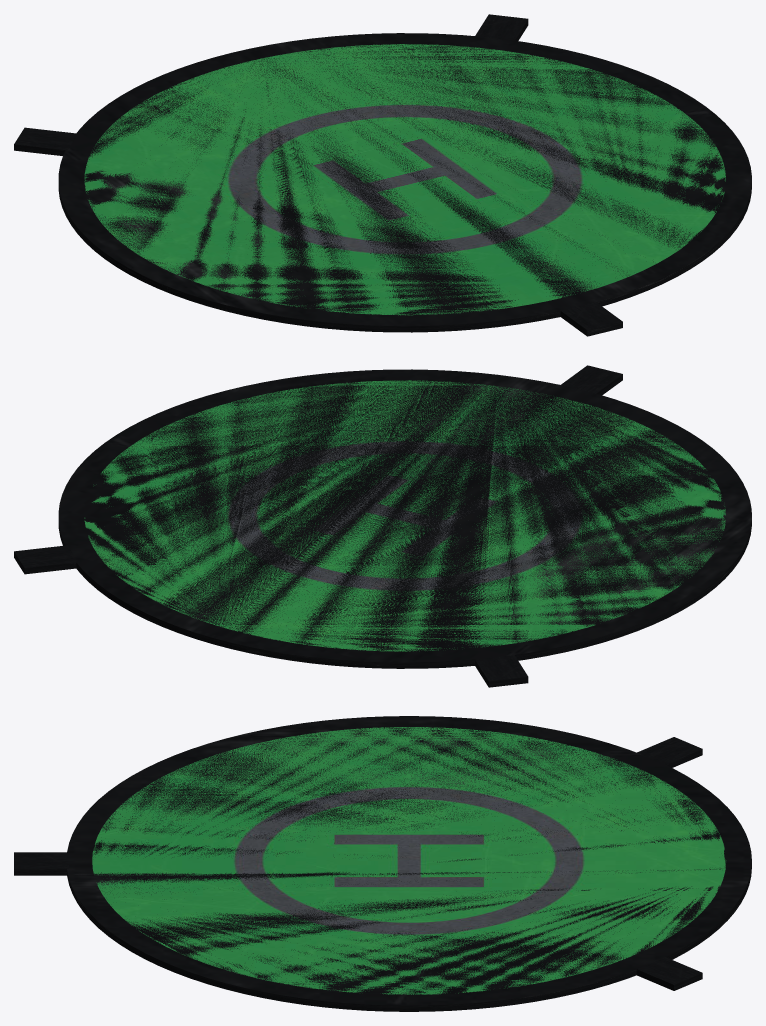
Rendered from DronePad_green.fbx.
The picture shows the model from 3 angles, top to bottom: view 1: azimuth 30°, elevation 25°; view 2: azimuth 150°, elevation 25°; view 3: azimuth 270°, elevation 25°; orthographic projection.
Parts seen in each view (by area): view 1: DronePad_blue, DronePadSupport, DronePadSupport_1, DronePadSupport_2, DronePadSupport_3; view 2: DronePadSupport, DronePad_blue, DronePadSupport_3, DronePadSupport_2, DronePadSupport_1; view 3: DronePad_blue, DronePadSupport, DronePadSupport_3, DronePadSupport_1, DronePadSupport_2.
Boxes of the visible parts, x1,y1,x2,y2 form: DronePad_blue: (84, 44, 725, 315); DronePadSupport: (58, 33, 751, 332); DronePadSupport_1: (560, 301, 622, 336); DronePadSupport_2: (14, 127, 77, 155); DronePadSupport_3: (475, 14, 528, 40); DronePadSupport: (58, 369, 751, 668); DronePad_blue: (84, 380, 725, 651); DronePadSupport_3: (14, 545, 76, 574); DronePadSupport_2: (475, 654, 528, 687); DronePadSupport_1: (561, 365, 622, 395); DronePad_blue: (92, 727, 726, 994); DronePadSupport: (66, 716, 751, 1011); DronePadSupport_3: (636, 957, 702, 990); DronePadSupport_1: (14, 852, 68, 875); DronePadSupport_2: (635, 737, 702, 767).
Bounding box in the file's own units: 200 × 2 × 215.
